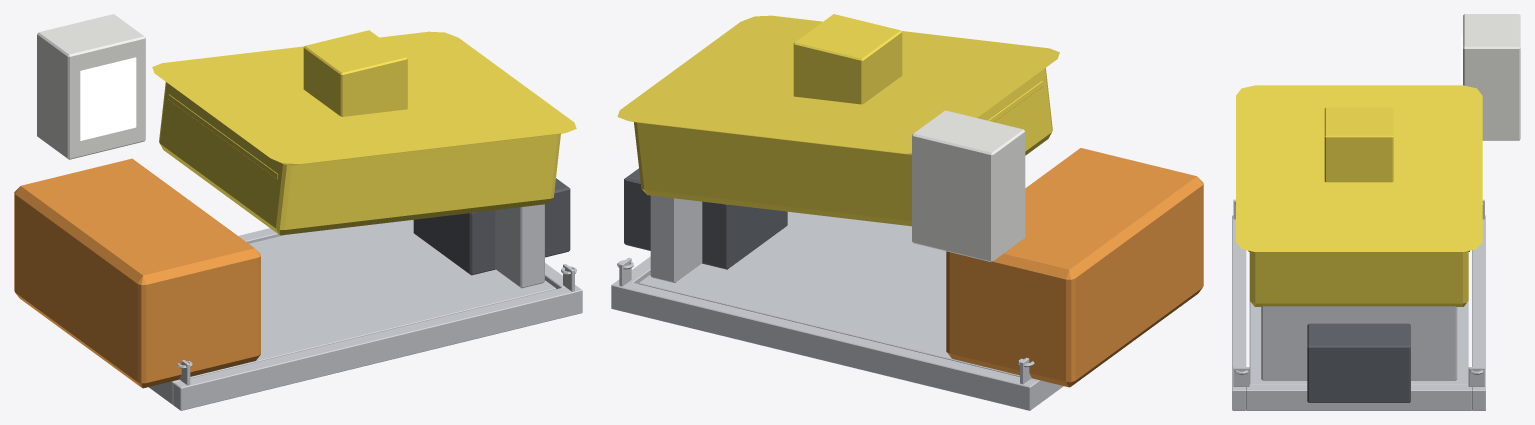
The model's file is offshore-oil-rig-and-platform-shale-shaker-a2e501b0__37025.glb.
The picture shows the model from 3 angles, left to right: view 1: azimuth 30°, elevation 25°; view 2: azimuth 150°, elevation 25°; view 3: azimuth 270°, elevation 25°; orthographic projection. The views are drawn at different scales.
Parts seen in each view (by area): view 1: shale-shaker, shaker-deck; view 2: shale-shaker, shaker-deck; view 3: shaker-deck, shale-shaker.
Part boxes in pixels (x1=…): shale-shaker: x1=14, y1=14, x2=582, y2=410; shaker-deck: x1=152, y1=30, x2=576, y2=235; shale-shaker: x1=611, y1=110, x2=1203, y2=410; shaker-deck: x1=617, y1=14, x2=1059, y2=226; shaker-deck: x1=1236, y1=85, x2=1482, y2=306; shale-shaker: x1=1232, y1=14, x2=1520, y2=410.
Size of the model in its own units: 4.17 by 2.2 by 2.5.
